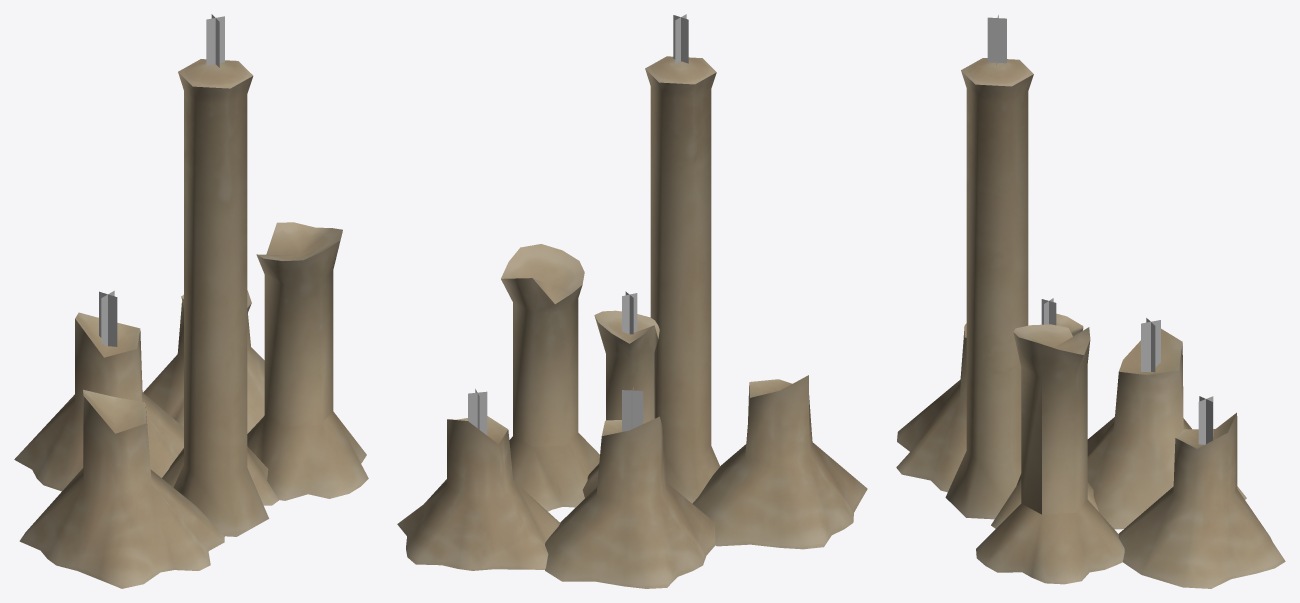
Rendered from SM_Candles_E.fbx.
3 views of the same model, side by side, from view 1: azimuth 30°, elevation 25°; view 2: azimuth 150°, elevation 25°; view 3: azimuth 270°, elevation 25° (orthographic). The views are drawn at different scales.
Visible parts, largest first — view 1: SM_Candles_E_LOD0; view 2: SM_Candles_E_LOD0; view 3: SM_Candles_E_LOD0.
Part boxes in pixels (x1,y1,x2,y2): SM_Candles_E_LOD0: (14,14,368,588); SM_Candles_E_LOD0: (397,14,867,588); SM_Candles_E_LOD0: (896,15,1285,588).
Size of the model in its own units: 19.81 by 19.12 by 26.1.
Materials: 2 (1 with a texture image).
